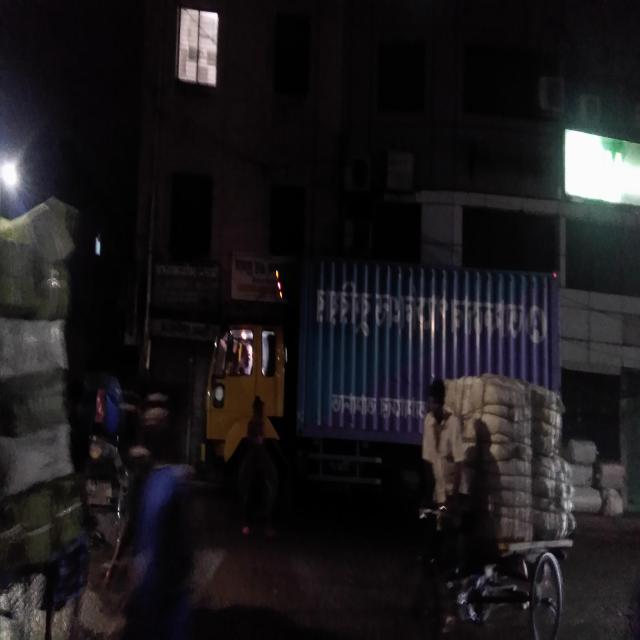truck: (199, 228, 571, 530)
